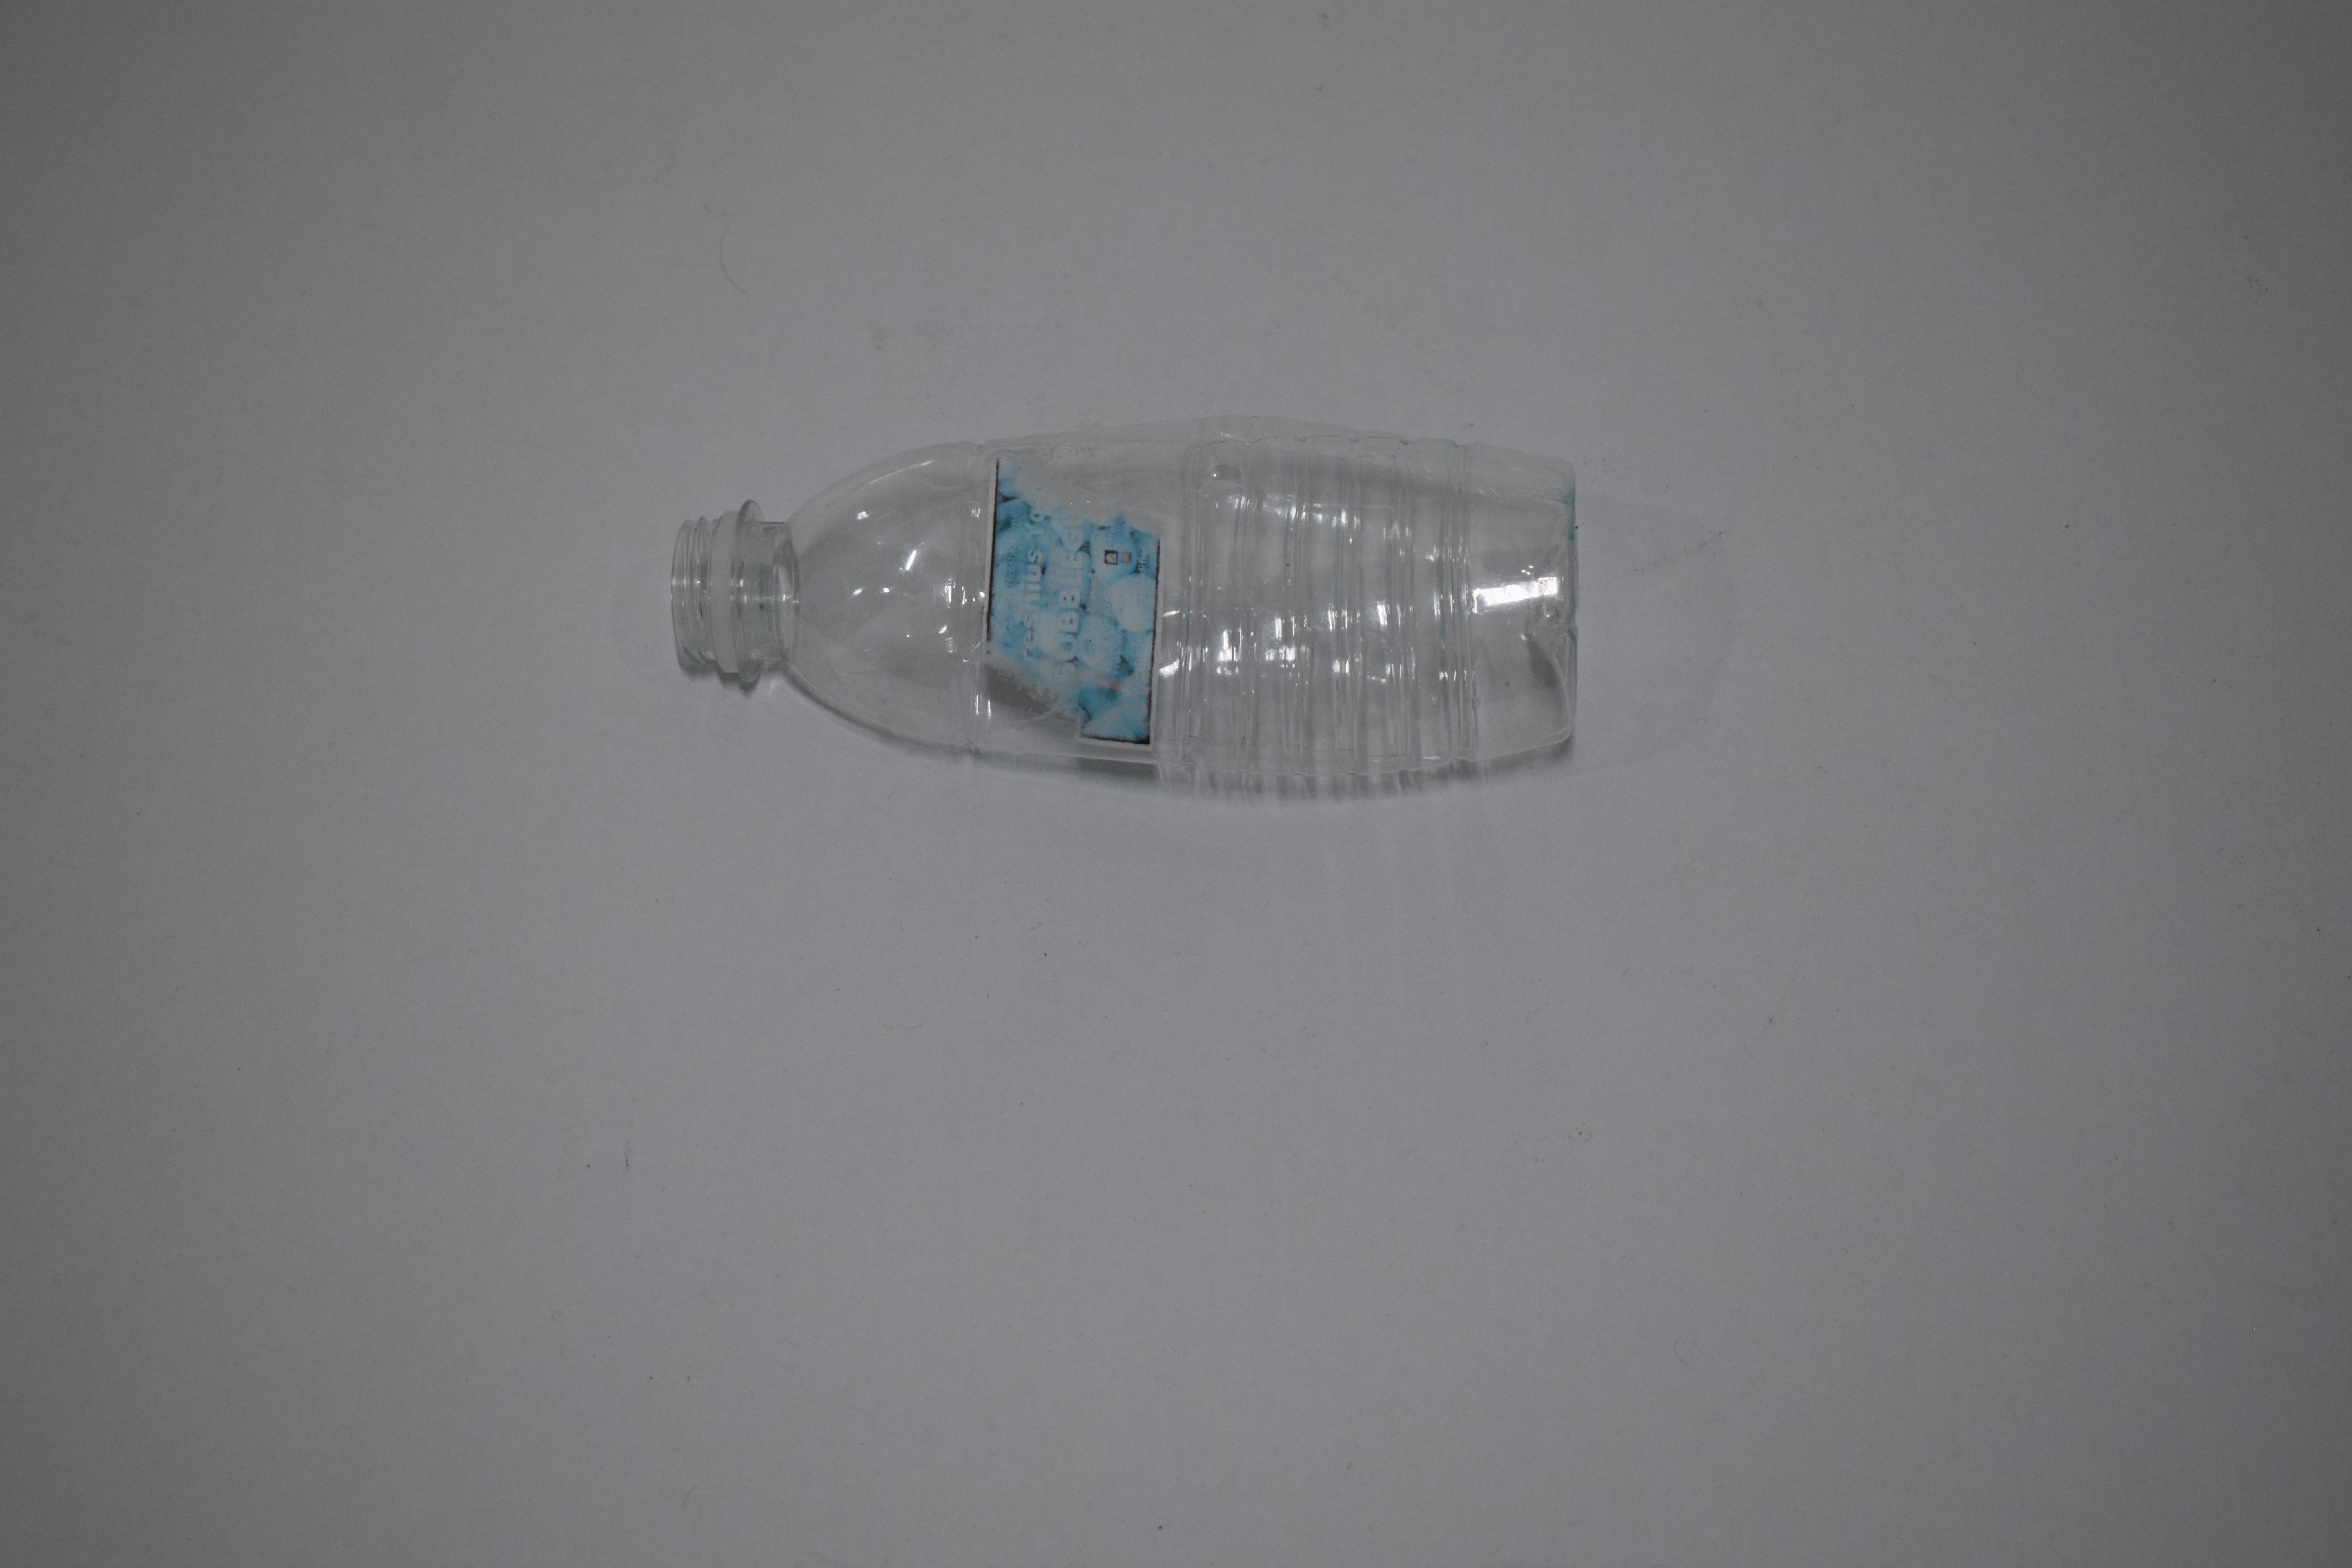bottle: (658, 424, 1591, 803)
